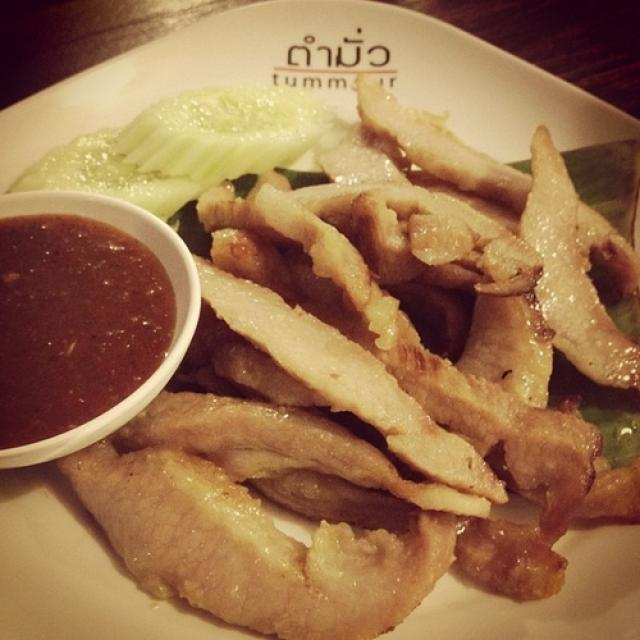猪肉菜式: (229, 143, 598, 613)
